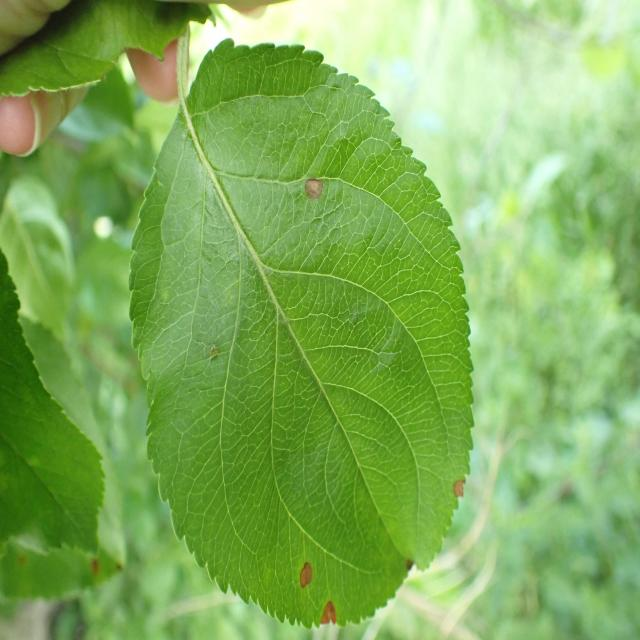Black Rot: (287, 154, 325, 226), (287, 528, 318, 602), (442, 460, 471, 520), (314, 590, 347, 638)
